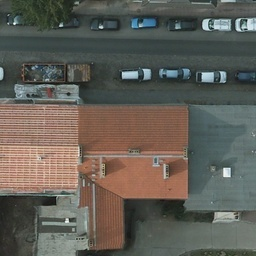car: (7, 11, 40, 28), (117, 67, 152, 83), (202, 17, 234, 33), (168, 16, 198, 32), (194, 69, 226, 84), (48, 15, 81, 29), (89, 17, 121, 31), (158, 67, 189, 81), (131, 17, 162, 30), (237, 69, 256, 83)
van: (1, 68, 3, 82)
